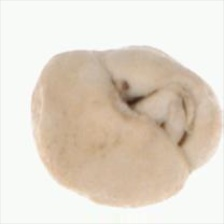L3: (114, 79, 196, 144)
L4: (30, 45, 221, 207)
